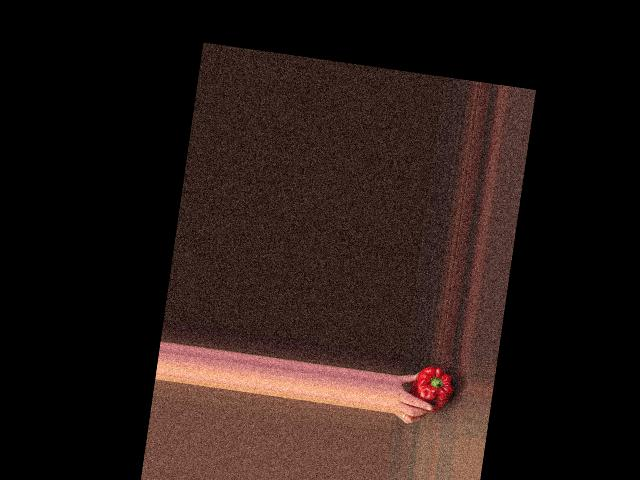bell_pepper: (409, 362, 456, 412)
